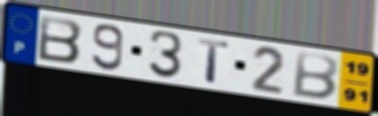2: (250, 45, 287, 97)
3: (146, 30, 185, 81)
9: (91, 23, 126, 72)
B: (289, 49, 341, 102), (36, 13, 85, 65)
T: (196, 36, 232, 86)
